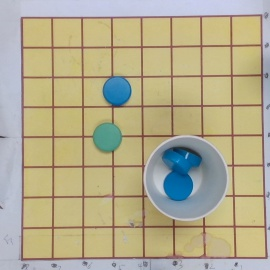blue: (103, 77, 133, 106)
cup_blue: (144, 136, 229, 221)
green: (93, 123, 123, 151)
